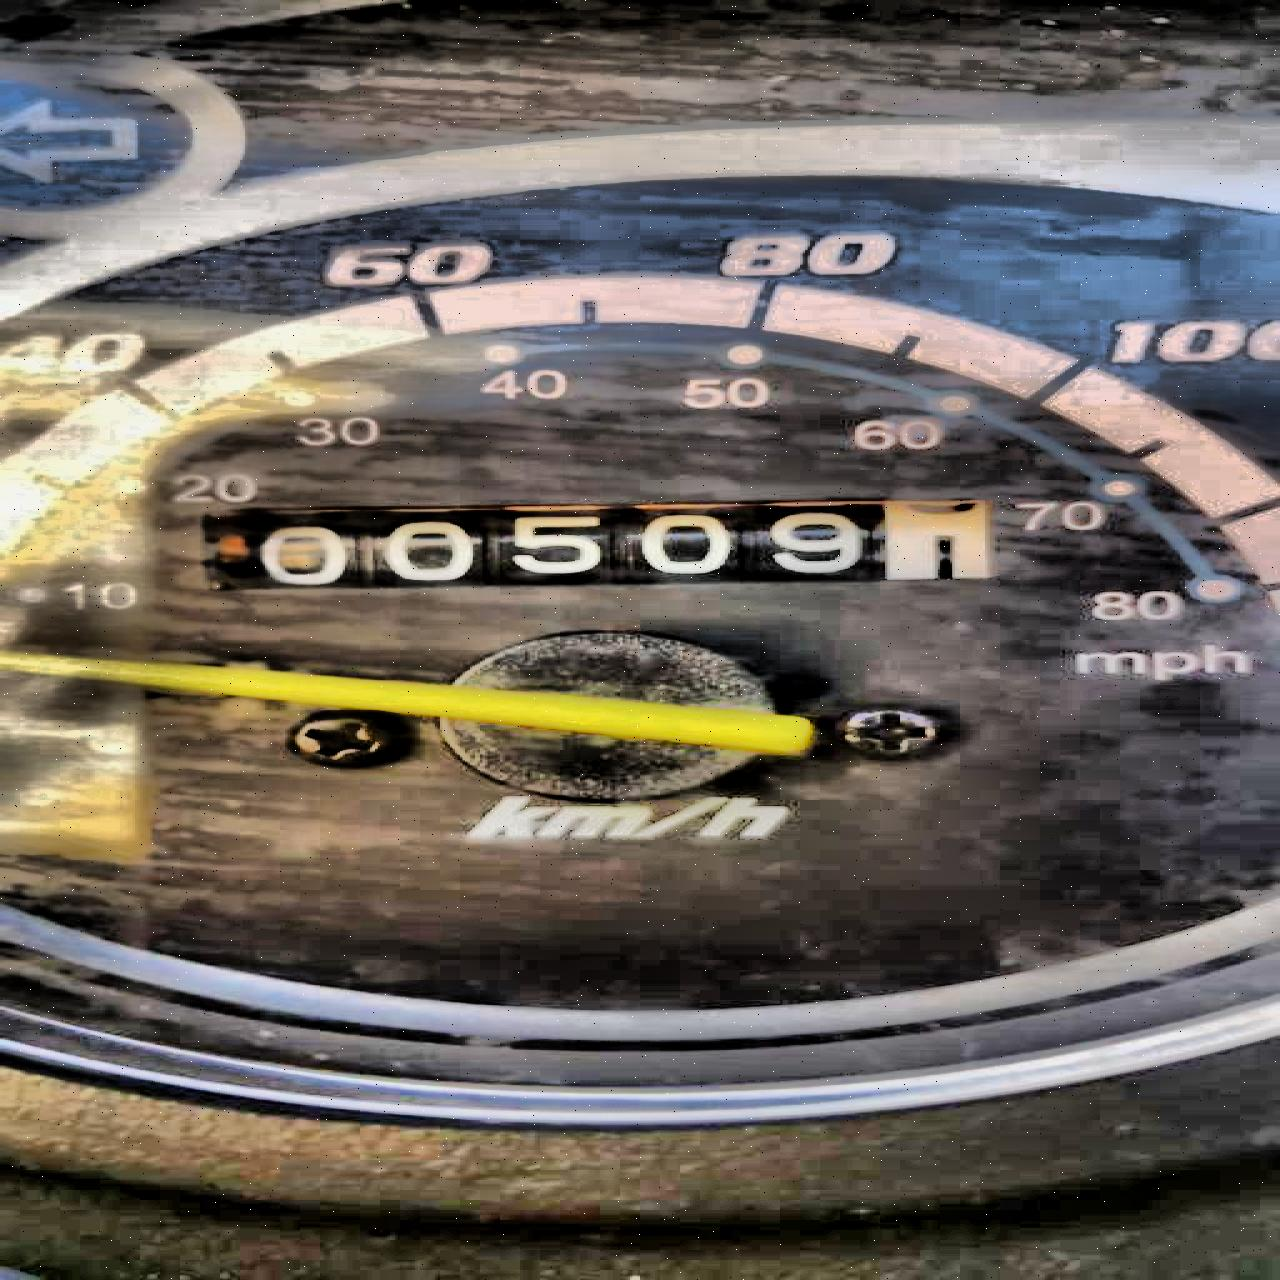0: (642, 506, 737, 580), (252, 513, 349, 583), (380, 519, 478, 580)
1: (907, 529, 980, 588)
5: (503, 510, 607, 576)
9: (760, 506, 860, 572)
odometer: (188, 492, 1005, 593)
